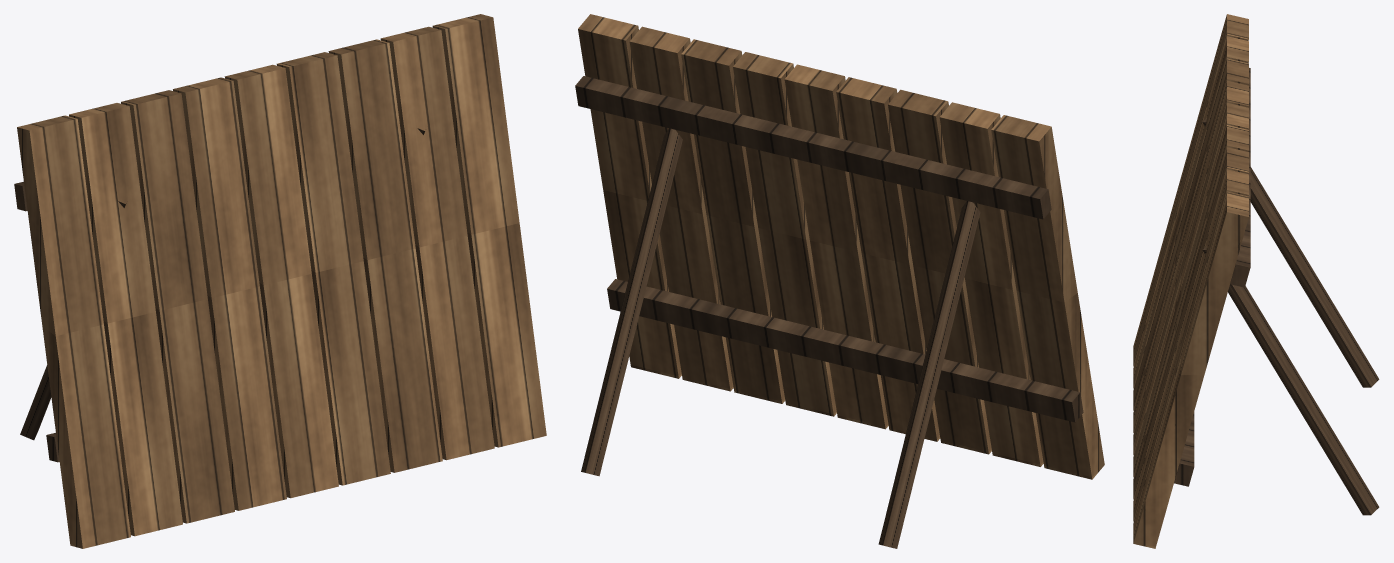
The model's file is Mantlet_1.gltf.
The picture shows the model from 3 angles, left to right: view 1: azimuth 30°, elevation 25°; view 2: azimuth 150°, elevation 25°; view 3: azimuth 270°, elevation 25°; orthographic projection. The views are drawn at different scales.
Parts seen in each view (by area): view 1: Mantlet_1; view 2: Mantlet_1; view 3: Mantlet_1.
Part boxes in pixels (<box>): Mantlet_1: <box>14,14,546,548</box>; Mantlet_1: <box>575,14,1104,548</box>; Mantlet_1: <box>1133,14,1379,548</box>.
Bounding box in the file's own units: 2.5 × 1.98 × 1.3.
2 materials, 2 textured.
